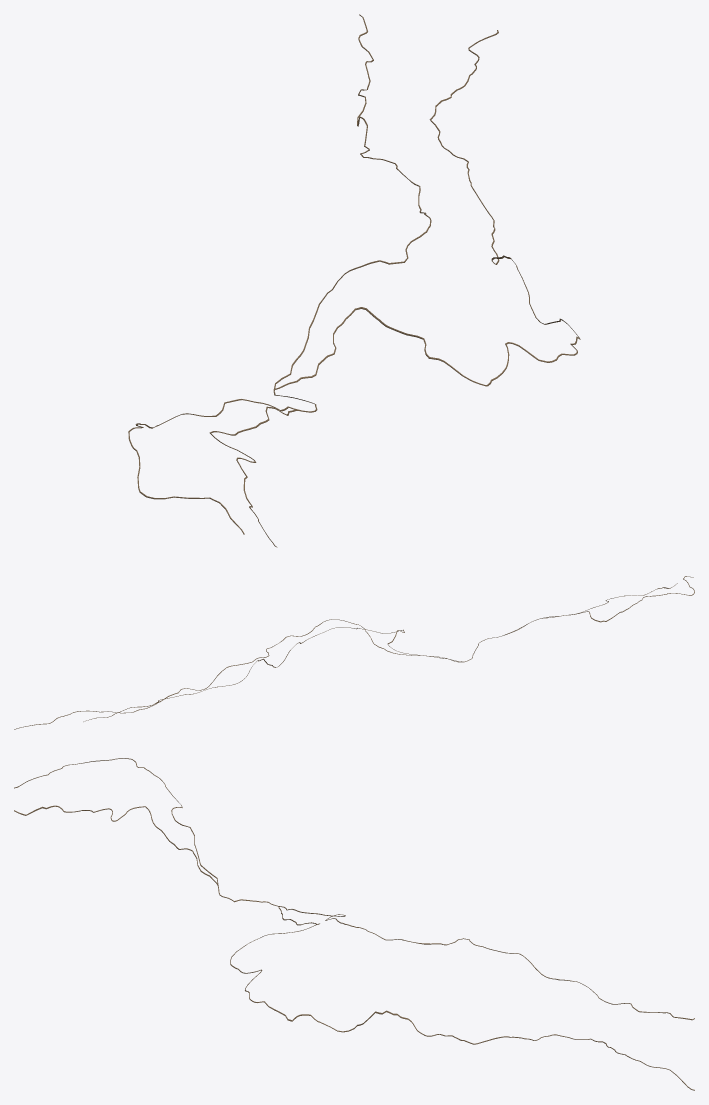
The picture shows the model from 3 angles, top to bottom: view 1: azimuth 30°, elevation 25°; view 2: azimuth 150°, elevation 25°; view 3: azimuth 270°, elevation 25°; orthographic projection. The views are drawn at different scales.
Size of the model in its own units: 1045 by 185 by 1167.
